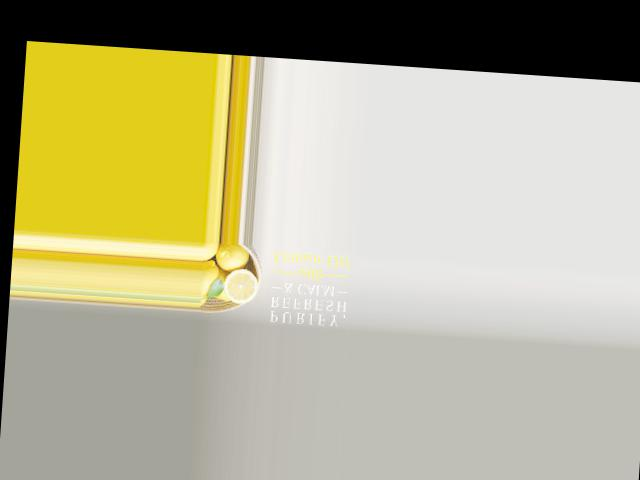lemon: (215, 242, 248, 273)
